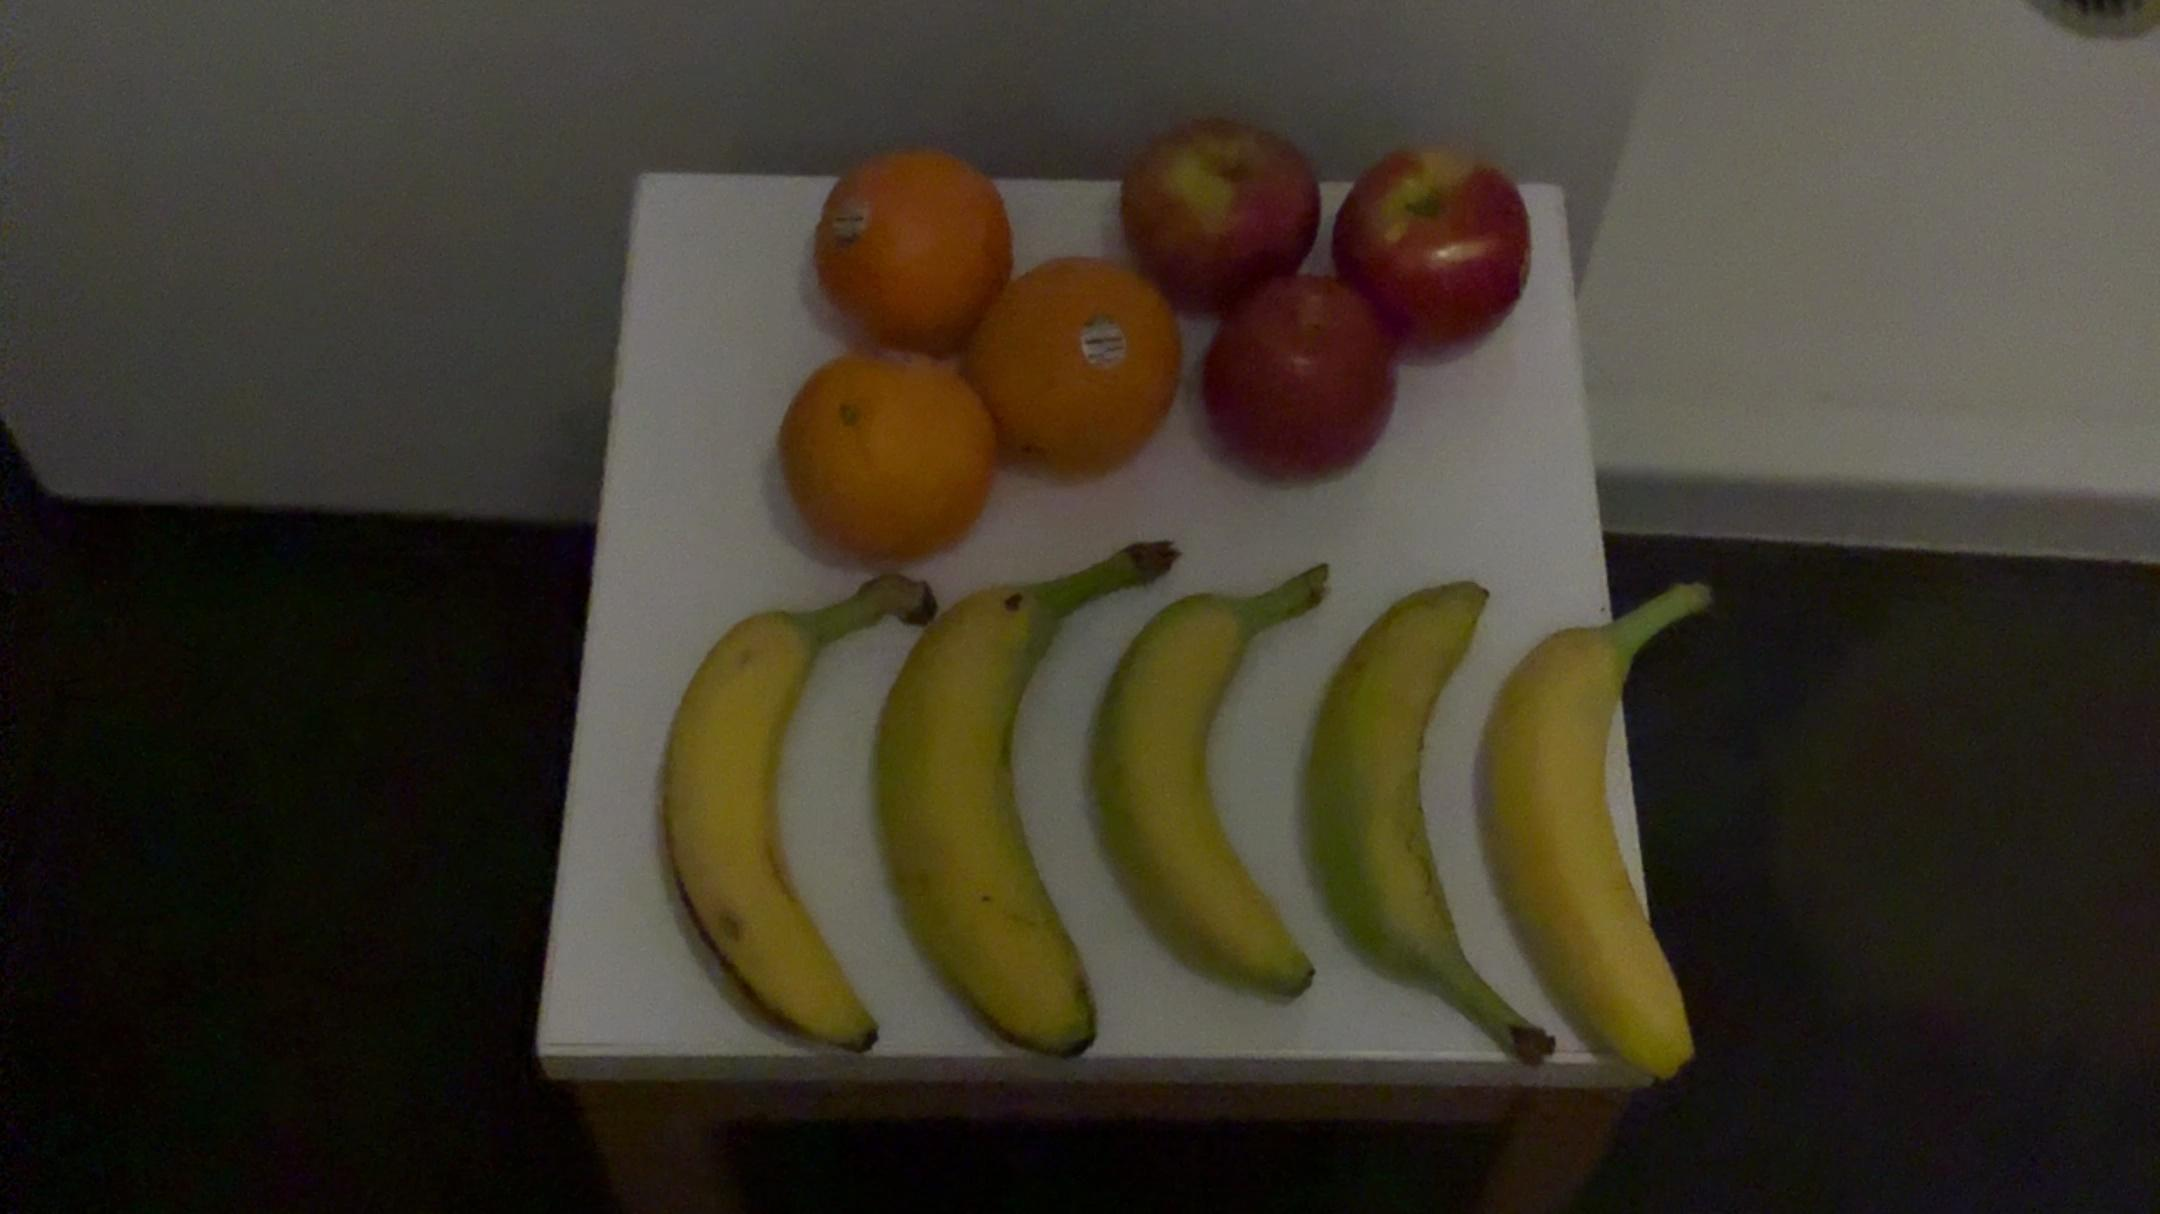apple: (1317, 142, 1550, 358), (1110, 107, 1323, 316), (1203, 278, 1389, 496)
banana: (863, 528, 1182, 1094), (1300, 560, 1570, 1079), (662, 551, 915, 1064), (1083, 545, 1340, 1036), (1486, 568, 1721, 1100)
orange: (961, 252, 1188, 490), (757, 327, 975, 562), (800, 141, 1015, 344)
